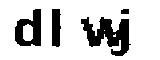d: (9, 4, 42, 49)
j: (113, 8, 139, 60)
l: (49, 5, 74, 56)
w: (76, 13, 120, 48)
